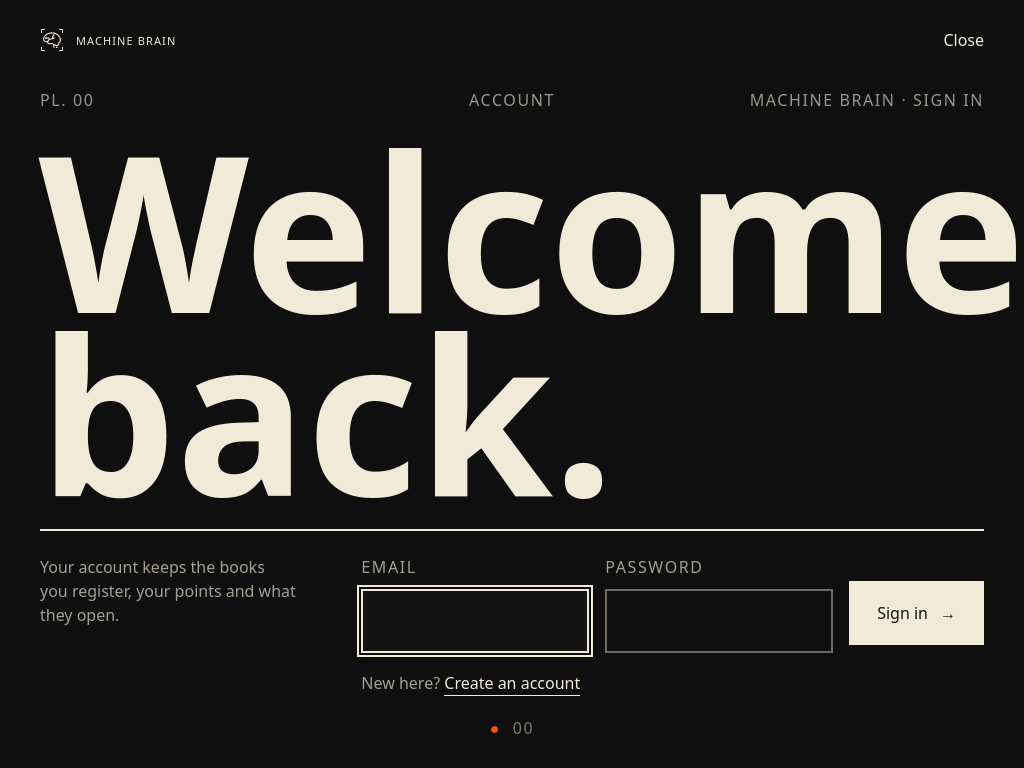
it: AuthModal (S3 plate) › ties inline errors to fields with a summary
Type "you@example.com" into the field labelled "Email" at (475, 621), box [361, 589, 589, 653]
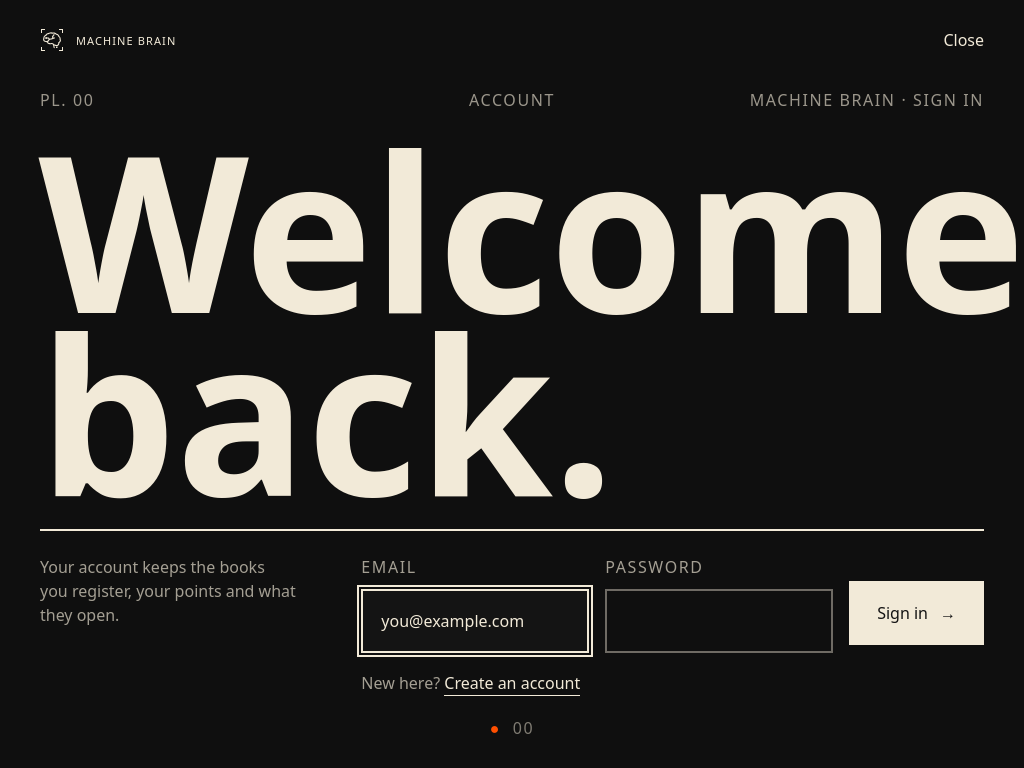
Submit the form "account", box [361, 555, 984, 696]
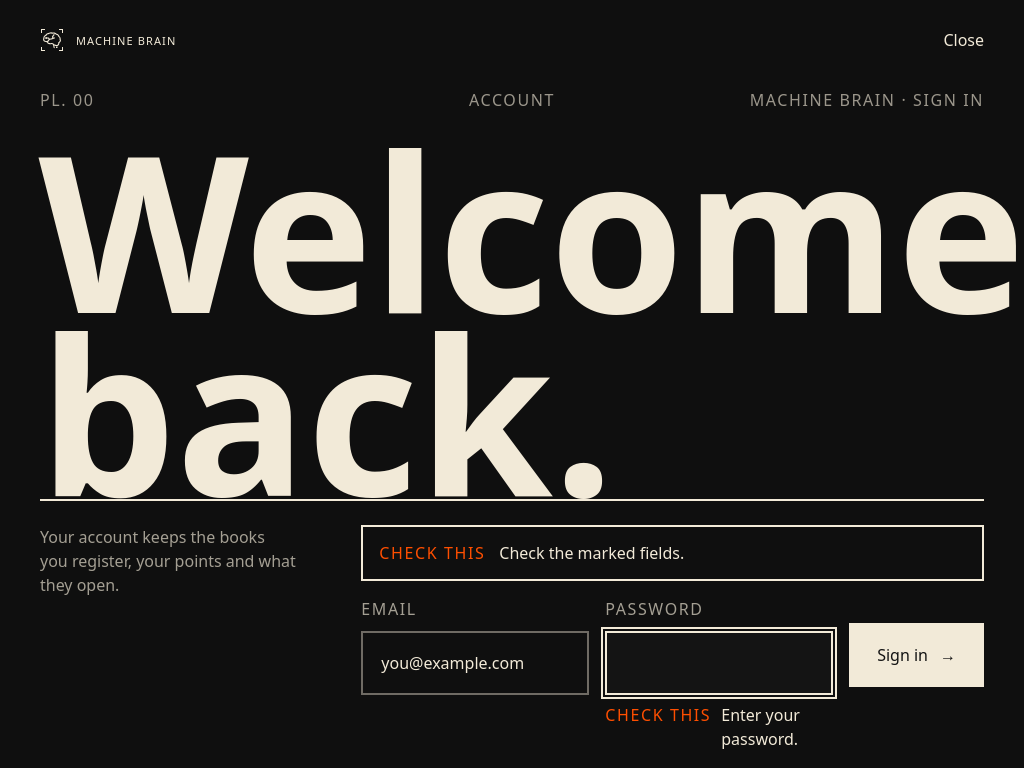
Check: the element with test id "auth-summary" shows "Check the marked fields.", box [499, 542, 684, 564]
